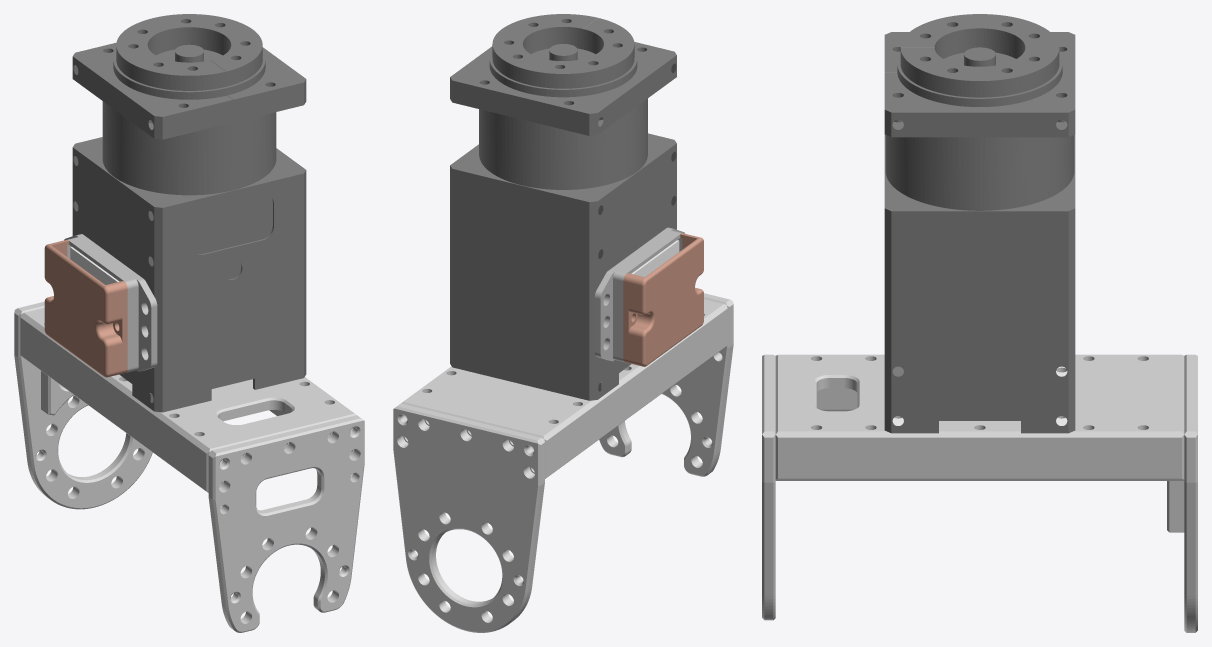
The model's file is robotis_arm_link5.dae.
3 renders of one model, left to right at view 1: azimuth 30°, elevation 25°; view 2: azimuth 150°, elevation 25°; view 3: azimuth 270°, elevation 25°, orthographic. The views are drawn at different scales.
Visible parts, largest first — view 1: Untitled_006, Untitled_003, Untitled_005, Untitled_004, Untitled, Untitled_009, Untitled_001, Untitled_012, Untitled_002; view 2: Untitled_006, Untitled_004, Untitled_005, Untitled, Untitled_009, Untitled_003, Untitled_001, Untitled_012, Untitled_002; view 3: Untitled_005, Untitled_007, Untitled_006, Untitled_004, Untitled_013, Untitled_003.
Part boxes in pixels (x1=…): Untitled_006: x1=73, y1=14, x2=306, y2=412; Untitled_003: x1=208, y1=415, x2=364, y2=632; Untitled_005: x1=20, y1=308, x2=356, y2=492; Untitled_004: x1=14, y1=301, x2=152, y2=509; Untitled: x1=44, y1=239, x2=127, y2=377; Untitled_009: x1=72, y1=147, x2=154, y2=411; Untitled_001: x1=64, y1=234, x2=157, y2=372; Untitled_012: x1=72, y1=56, x2=154, y2=138; Untitled_002: x1=70, y1=247, x2=119, y2=284; Untitled_006: x1=450, y1=14, x2=676, y2=400; Untitled_004: x1=393, y1=403, x2=544, y2=632; Untitled_005: x1=401, y1=299, x2=727, y2=478; Untitled: x1=623, y1=233, x2=703, y2=366; Untitled_009: x1=597, y1=143, x2=676, y2=399; Untitled_003: x1=599, y1=293, x2=733, y2=476; Untitled_001: x1=594, y1=227, x2=684, y2=361; Untitled_012: x1=597, y1=55, x2=676, y2=134; Untitled_002: x1=631, y1=240, x2=679, y2=276; Untitled_005: x1=775, y1=354, x2=1184, y2=480; Untitled_007: x1=891, y1=211, x2=1068, y2=433; Untitled_006: x1=884, y1=14, x2=1075, y2=432; Untitled_004: x1=1167, y1=354, x2=1197, y2=632; Untitled_013: x1=891, y1=112, x2=1068, y2=137; Untitled_003: x1=762, y1=354, x2=775, y2=620.
Bounding box in the file's own units: 0.0527 × 0.096 × 0.1405.
